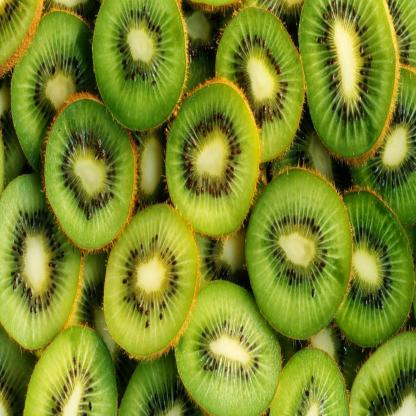--: (240, 163, 354, 358), (157, 77, 268, 247), (294, 1, 402, 175), (99, 204, 204, 375), (39, 91, 140, 267), (171, 279, 284, 416), (92, 0, 197, 141)
